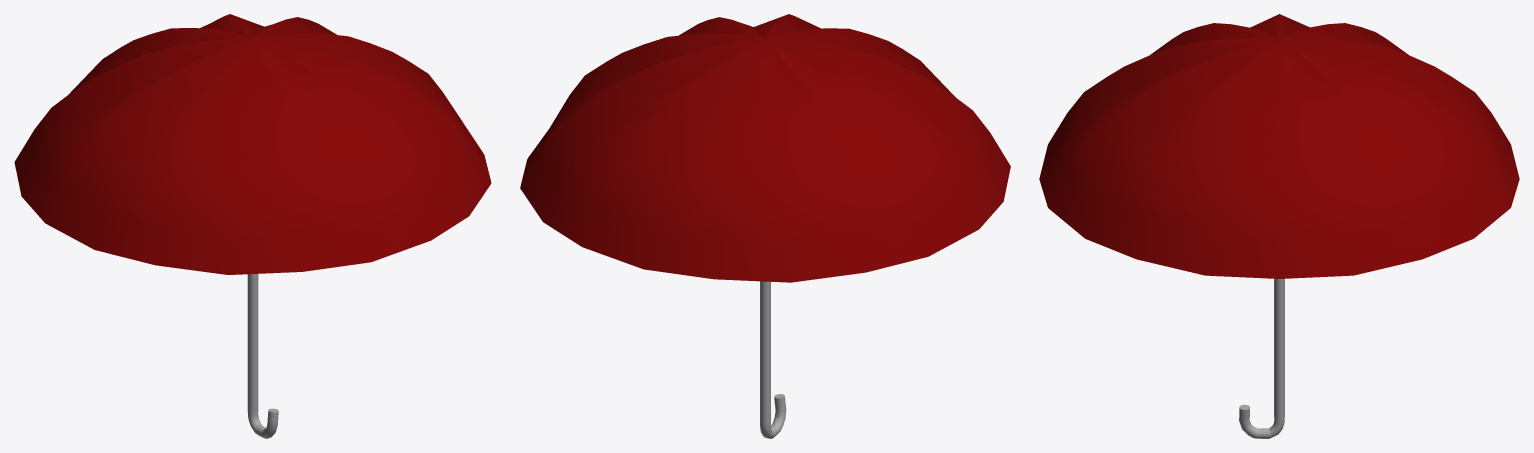
The model's file is sanpiao.fbx.
3 renders of one model, left to right at view 1: azimuth 30°, elevation 25°; view 2: azimuth 150°, elevation 25°; view 3: azimuth 270°, elevation 25°, orthographic. The views are drawn at different scales.
Visible parts, largest first — view 1: pasted__polySurface20; view 2: pasted__polySurface20; view 3: pasted__polySurface20.
Boxes of the visible parts, bbox=[...] form: pasted__polySurface20: bbox=[14, 14, 491, 438]; pasted__polySurface20: bbox=[520, 14, 1010, 438]; pasted__polySurface20: bbox=[1039, 14, 1519, 438].
Bounding box in the file's own units: 14.04 × 12.68 × 13.85.
